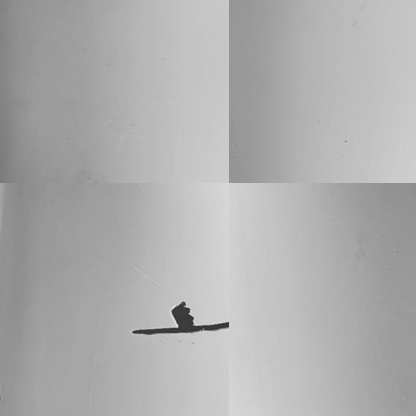kongdong: (125, 295, 237, 338)
